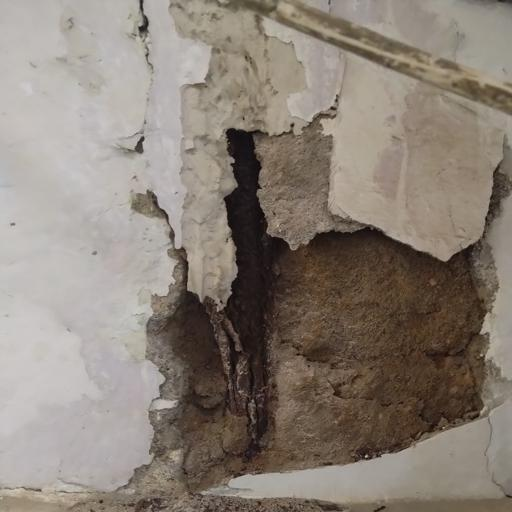spalling: (137, 38, 487, 504)
